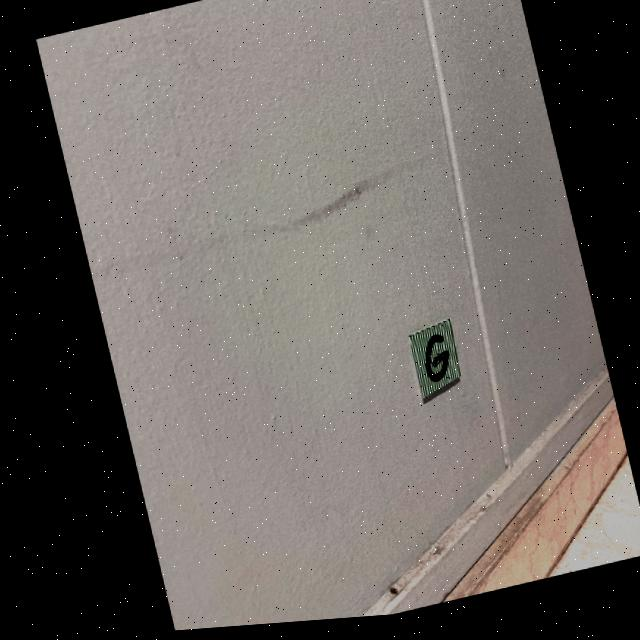G: (420, 341, 443, 388)
